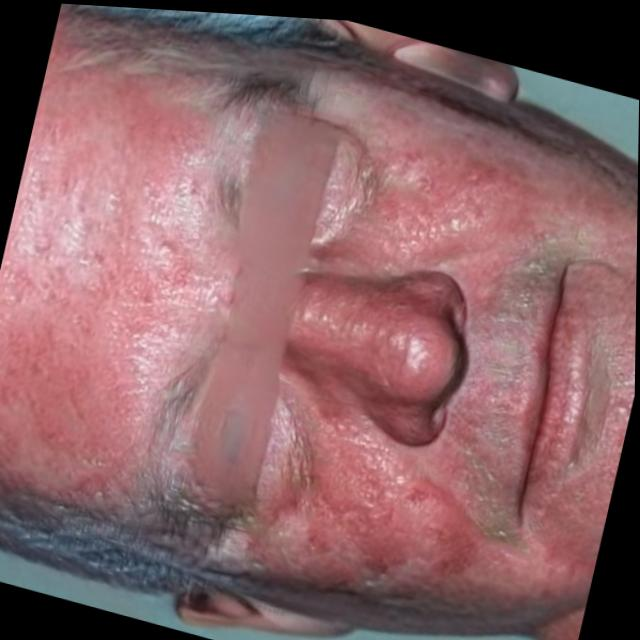Rosacea: (0, 104, 181, 504), (264, 436, 530, 632), (364, 69, 555, 289)
